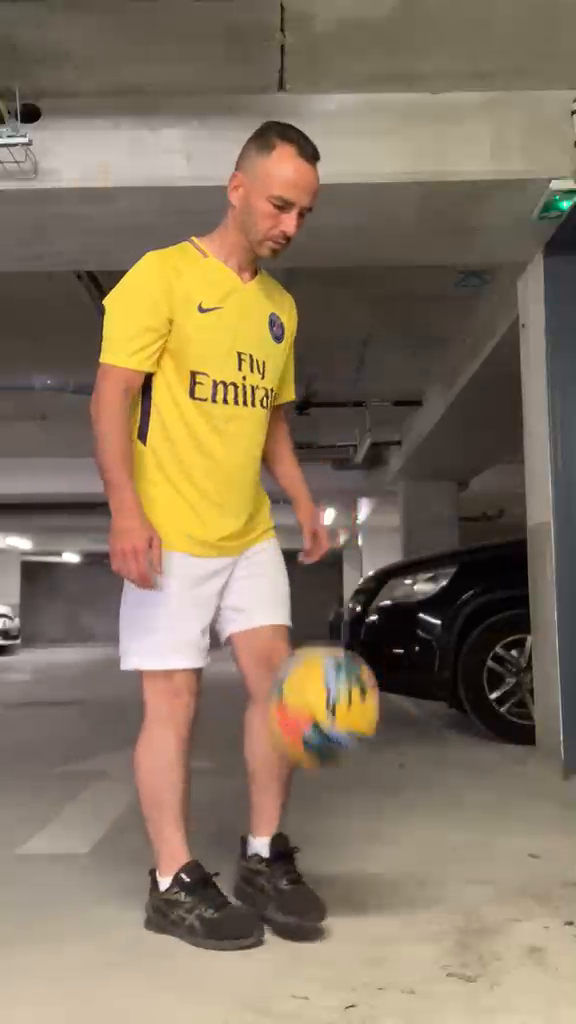ball: (265, 644, 383, 762)
